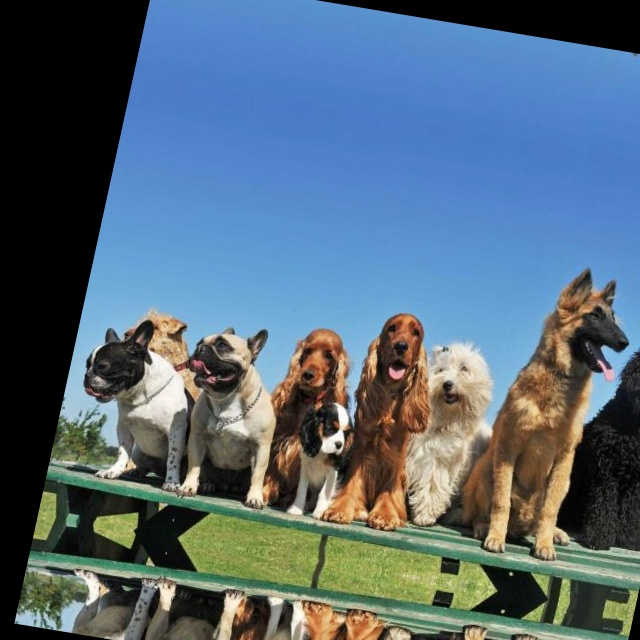dog: (454, 246, 635, 562), (313, 293, 451, 555), (158, 275, 295, 519), (44, 331, 183, 509), (387, 335, 488, 554), (16, 536, 139, 640), (128, 563, 233, 640), (285, 579, 390, 640), (357, 598, 431, 640), (421, 621, 554, 640), (560, 41, 640, 71)
